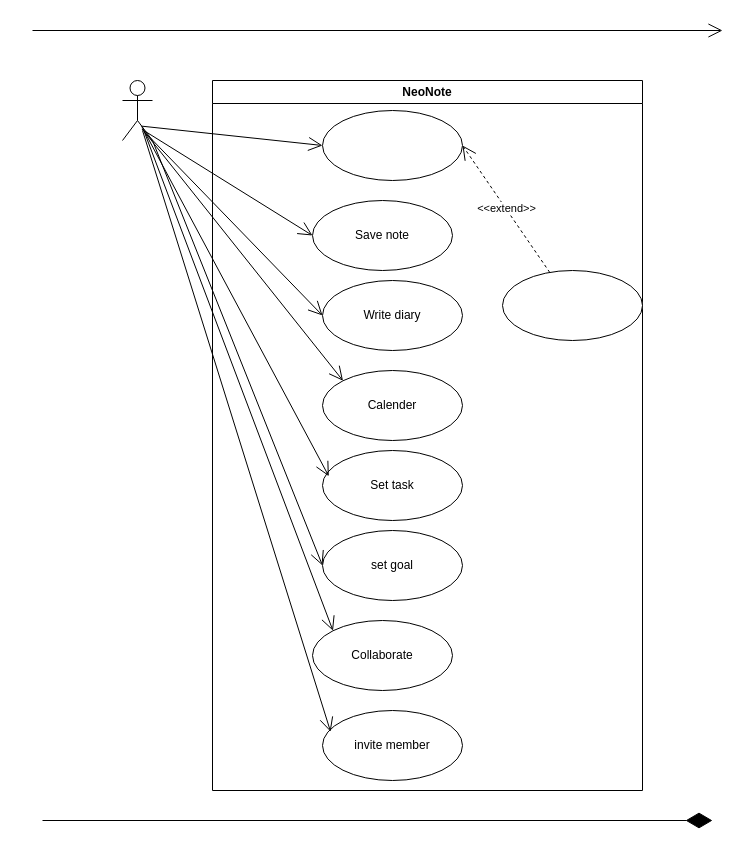
Image size: 756x864. Some labels were removed from this diagram. Each missing label, with the centre of its shape:
login: the point at 392,145
signup: the point at 572,305
user: the point at 137,110
